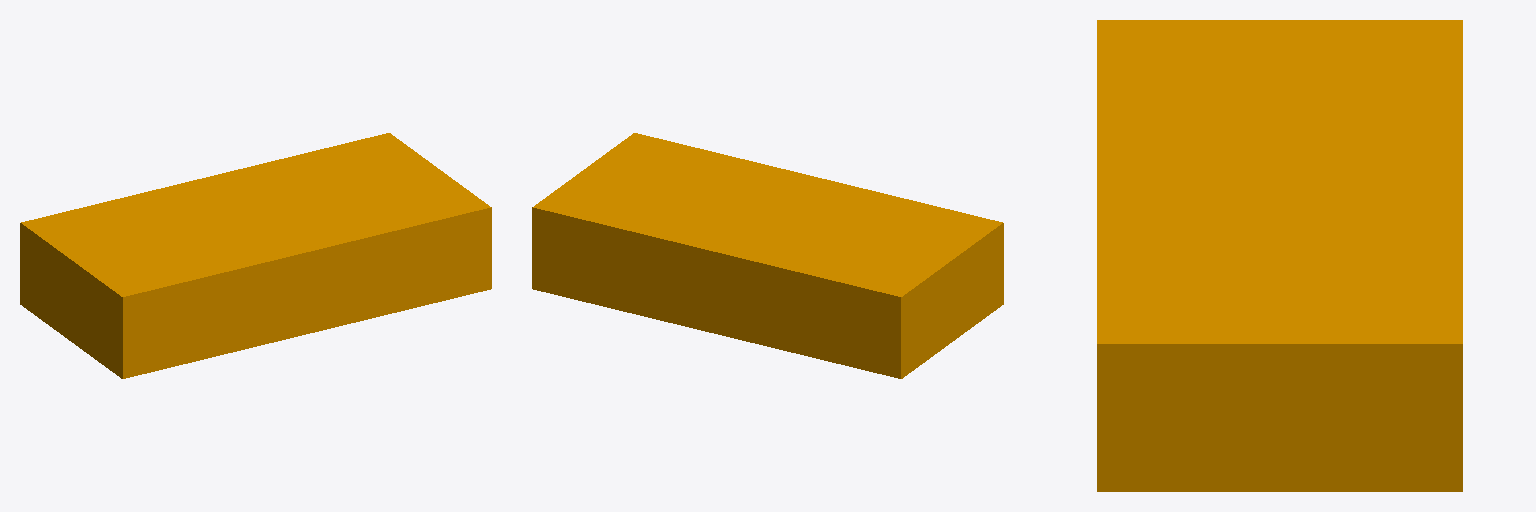
robot.urdf — omni_bot:
<?xml version="1.0"?>
<robot name="omni_bot">
    <link name="base_link">
        <inertial>
            <origin xyz="0.0 0.0 0.0" rpy="0.0 0.0 0.0" />
            <mass value="0.0" />
            <inertia ixx="0.0" ixy="0.0" ixz="0.0" iyy="0.0" iyz="0.0" izz="0.0" />
        </inertial>
        <visual name="base_link">
            <origin xyz="0 0 0.075" rpy="0.0 0.0 0.0" />
            <geometry>
                <box size="0.471 0.22559 0.1"/>
            </geometry>
        </visual>
        <collision>
            <origin xyz="0 0 0.05" rpy="0.0 0.0 0.0" />
            <geometry>
                <box size="0.471 0.22559 0.1"/>
            </geometry>
        </collision>
    </link>

    <link name="fl_wheel_link">
        <inertial>
            <origin xyz="0.0 0.0 0.0" rpy="0.0 0.0 0.0" />
            <mass value="0.0" />
            <inertia ixx="0.0" ixy="0.0" ixz="0.0" iyy="0.0" iyz="0.0" izz="0.0" />
        </inertial>
        <visual name="fl_wheel_link_vis">
            <origin xyz="0.0 0.0 0.0" rpy="0.0 0.0 0.0" />
            <geometry>
                <mesh filename="package://omnibot_description/meshes/omni_wheel.STL" scale="0.001 0.001 0.001" />
            </geometry>
            <material name="">
                <color rgba="1.0 0.0 0.0 1.0" />
                <texture filename="" />
            </material>
        </visual>
        <collision>
            <origin xyz="0.0 0.0 0.0" rpy="0.0 0.0 0.0" />
            <geometry>
                <mesh filename="package://omnibot_description/meshes/omni_wheel.STL" scale="0.001 0.001 0.001" />
            </geometry>
        </collision>
    </link>

    <link name="fr_wheel_link">
        <inertial>
            <origin xyz="0.0 0.0 0.0" rpy="0.0 0.0 0.0" />
            <mass value="0.0" />
            <inertia ixx="0.0" ixy="0.0" ixz="0.0" iyy="0.0" iyz="0.0" izz="0.0" />
        </inertial>
        <visual name="fr_wheel_link_vis">
            <origin xyz="0.0 0.0 0.0" rpy="0.0 0.0 0.0" />
            <geometry>
                <mesh filename="package://omnibot_description/meshes/omni_wheel.STL" scale="0.001 0.001 0.001" />
            </geometry>
            <material name="">
                <color rgba="1.0 0.0 0.0 1.0" />
                <texture filename="" />
            </material>
        </visual>
        <collision>
            <origin xyz="0.0 0.0 0.0" rpy="0.0 0.0 0.0" />
            <geometry>
                <mesh filename="package://omnibot_description/meshes/omni_wheel.STL" scale="0.001 0.001 0.001" />
            </geometry>
        </collision>
    </link>

    <link name="rl_wheel_link">
        <inertial>
            <origin xyz="0.0 0.0 0.0" rpy="0.0 0.0 0.0" />
            <mass value="0.0" />
            <inertia ixx="0.0" ixy="0.0" ixz="0.0" iyy="0.0" iyz="0.0" izz="0.0" />
        </inertial>
        <visual name="rl_wheel_link_vis">
            <origin xyz="0.0 0.0 0.0" rpy="0.0 0.0 0.0" />
            <geometry>
                <mesh filename="package://omnibot_description/meshes/omni_wheel.STL" scale="0.001 0.001 0.001" />
            </geometry>
            <material name="">
                <color rgba="1.0 0.0 0.0 1.0" />
                <texture filename="" />
            </material>
        </visual>
        <collision>
            <origin xyz="0.0 0.0 0.0" rpy="0.0 0.0 0.0" />
            <geometry>
                <mesh filename="package://omnibot_description/meshes/omni_wheel.STL" scale="0.001 0.001 0.001" />
            </geometry>
        </collision>
    </link>

    <link name="rr_wheel_link">
        <inertial>
            <origin xyz="0.0 0.0 0.0" rpy="0.0 0.0 0.0" />
            <mass value="0.0" />
            <inertia ixx="0.0" ixy="0.0" ixz="0.0" iyy="0.0" iyz="0.0" izz="0.0" />
        </inertial>
        <visual name="rr_wheel_link_vis">
            <origin xyz="0.0 0.0 0.0" rpy="0.0 0.0 0.0" />
            <geometry>
                <mesh filename="package://omnibot_description/meshes/omni_wheel.STL" scale="0.001 0.001 0.001" />
            </geometry>
            <material name="">
                <color rgba="1.0 0.0 0.0 1.0" />
                <texture filename="" />
            </material>
        </visual>
        <collision>
            <origin xyz="0.0 0.0 0.0" rpy="0.0 0.0 0.0" />
            <geometry>
                <mesh filename="package://omnibot_description/meshes/omni_wheel.STL" scale="0.001 0.001 0.001" />
            </geometry>
        </collision>
    </link>

    <joint name="fl_wheel_joint" type="revolute">
        <origin xyz="0.0 0.0 0.0" rpy="0.0 0.0 0.0"/>
        <parent link="base_link"/>
        <child link="fl_wheel_link"/>
        <axis xyz="0.0 0.0 0.0"/>
        <limit lower="0.0" upper="0.0" effort="0.0" velocity="0.5"/>
    </joint>

    <joint name="fr_wheel_joint" type="revolute">
        <origin xyz="0.0 0.0 0.0" rpy="0.0 0.0 0.0"/>
        <parent link="base_link"/>
        <child link="fr_wheel_link"/>
        <axis xyz="0.0 0.0 0.0"/>
        <limit lower="0.0" upper="0.0" effort="0.0" velocity="0.5"/>
    </joint>

    <joint name="rl_wheel_joint" type="revolute">
        <origin xyz="0.0 0.0 0.0" rpy="0.0 0.0 0.0"/>
        <parent link="base_link"/>
        <child link="rl_wheel_link"/>
        <axis xyz="0.0 0.0 0.0"/>
        <limit lower="0.0" upper="0.0" effort="0.0" velocity="0.5"/>
    </joint>

    <joint name="rr_wheel_joint" type="revolute">
        <origin xyz="0.0 0.0 0.0" rpy="0.0 0.0 0.0"/>
        <parent link="base_link"/>
        <child link="rr_wheel_link"/>
        <axis xyz="0.0 0.0 0.0"/>
        <limit lower="0.0" upper="0.0" effort="0.0" velocity="0.5"/>
    </joint>
</robot>

--- Render facts (derived) ---
3 views of the same robot in one strip: view 1: azimuth 30°, elevation 25°; view 2: azimuth 150°, elevation 25°; view 3: azimuth 270°, elevation 25° (orthographic).
Model omni_bot with 5 links and 4 joints (4 revolute), rooted at base_link, posed every joint at zero.
Links seen in each view (by area): view 1: base_link; view 2: base_link; view 3: base_link.
Link boxes in pixels (x1,y1,x2,y2): base_link: [20, 133, 491, 378]; base_link: [532, 133, 1003, 378]; base_link: [1097, 20, 1462, 491].
Size in the robot's own frame: 0.471 by 0.2256 by 0.1 metres.
Meshes: 1 distinct files referenced, 0 mesh visuals loaded (none loaded); not drawn: 4 (reference not matched to a file when rendering).